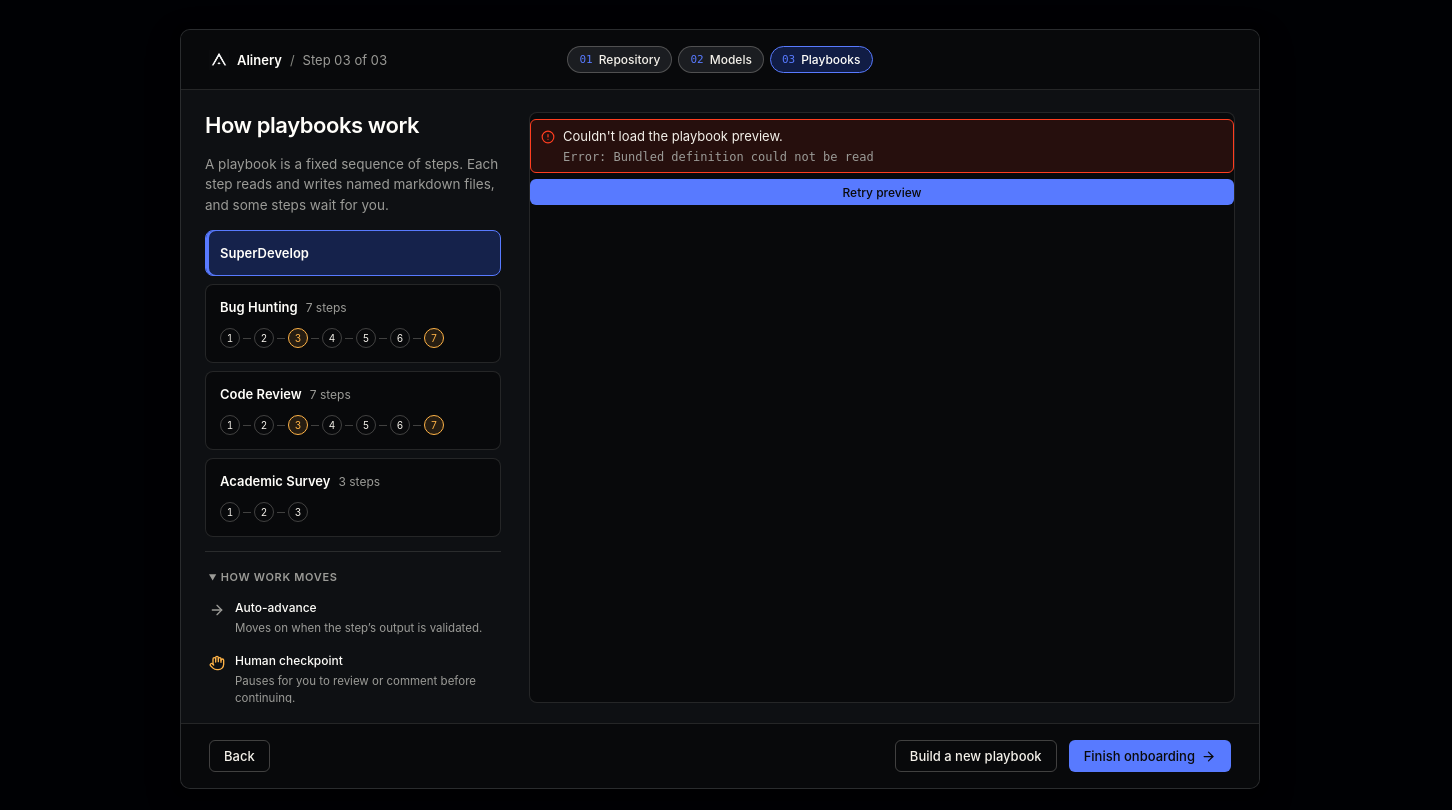
Scenario: OnboardingFlow wizard › shows a failed preview without fabricated steps and reloads it on retry
This screenshot has width=1452, height=810.
Click the button "Retry preview": {"x": 882, "y": 192} [530,179,1234,205]
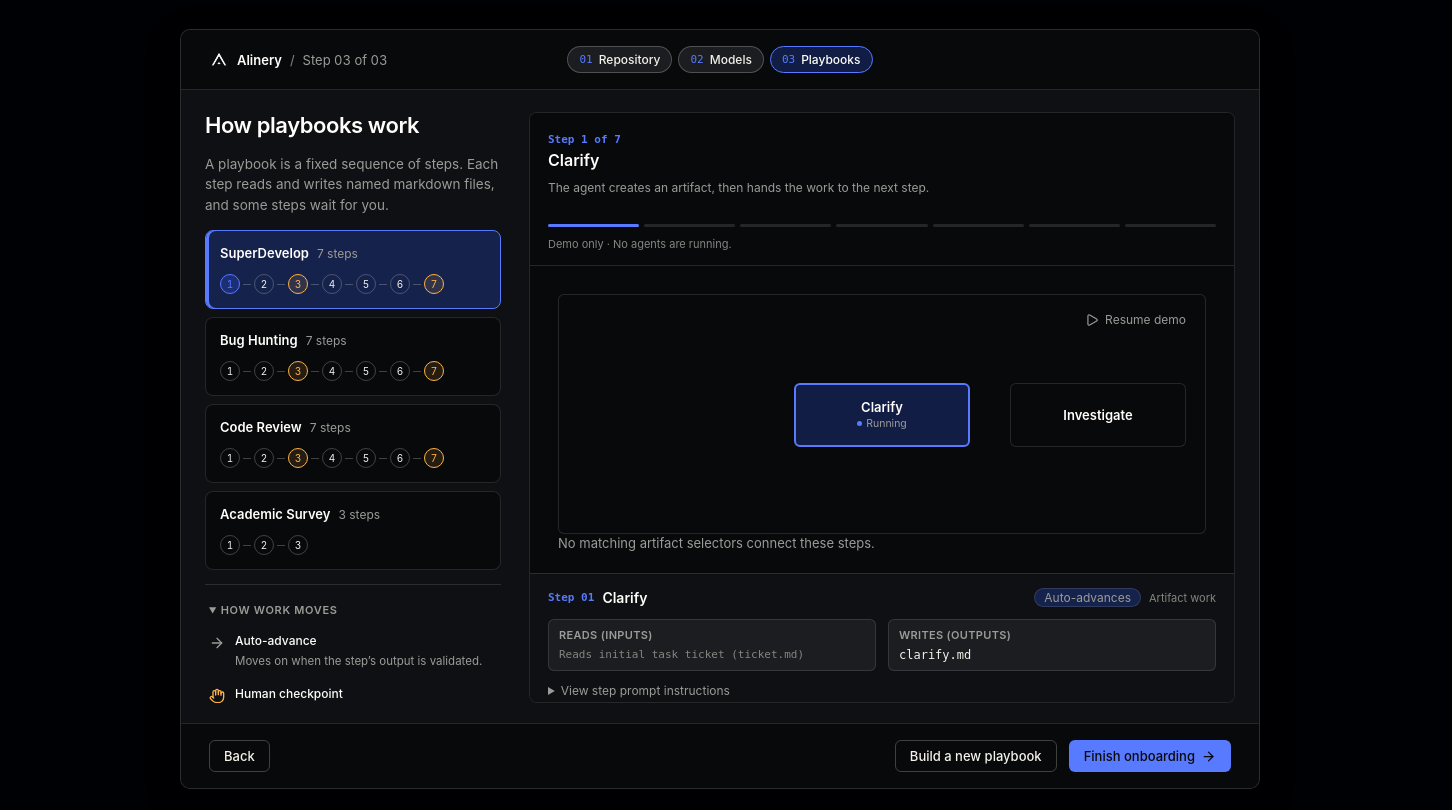
Expected: the button "Retry preview" is gone
